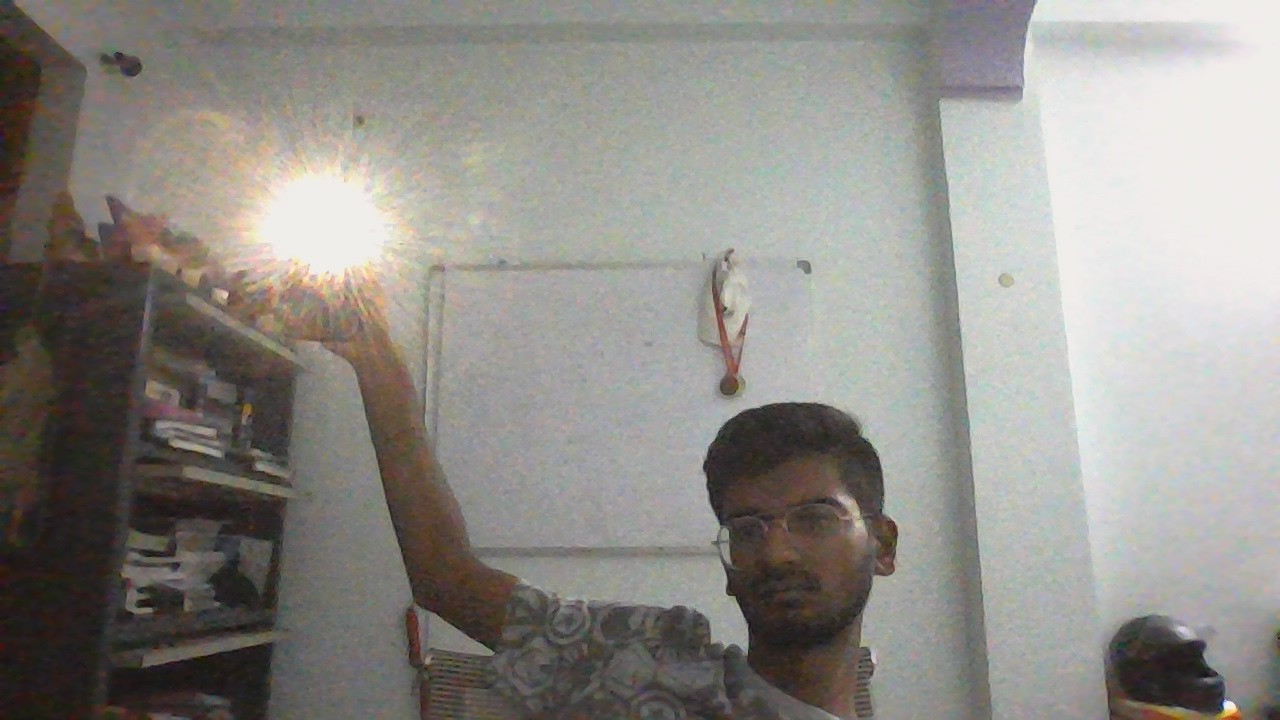Glare: (260, 174, 391, 280)
